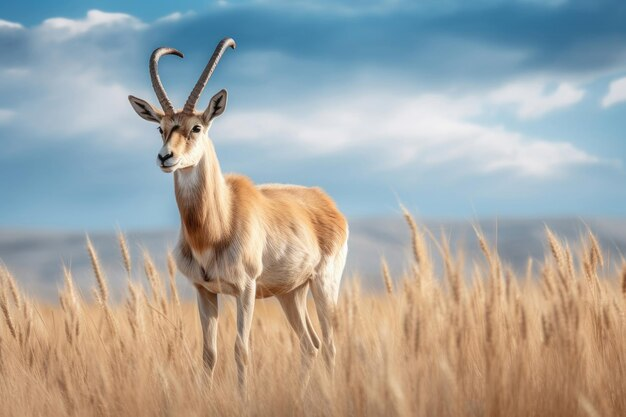saiga: (123, 34, 362, 397)
